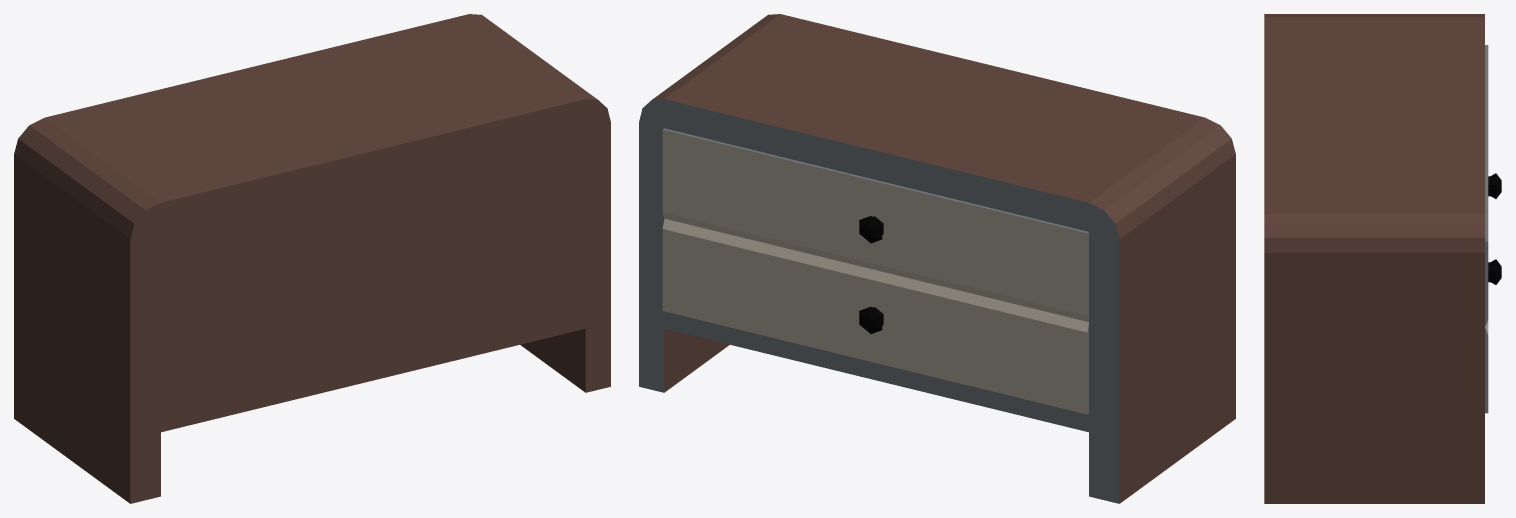
Rendered from Dolap-Kapaksız-Kucuk.fbx.
The picture shows the model from 3 angles, left to right: view 1: azimuth 30°, elevation 25°; view 2: azimuth 150°, elevation 25°; view 3: azimuth 270°, elevation 25°; orthographic projection. The views are drawn at different scales.
Visible parts, largest first — view 1: dolapKucuk; view 2: dolapKucuk; view 3: dolapKucuk.
Boxes of the visible parts, box(x1,y1,x2,y2) form: dolapKucuk: box(14, 14, 610, 503); dolapKucuk: box(639, 14, 1235, 503); dolapKucuk: box(1264, 14, 1501, 503).
Bounding box in the file's own units: 477 × 278 × 215.
